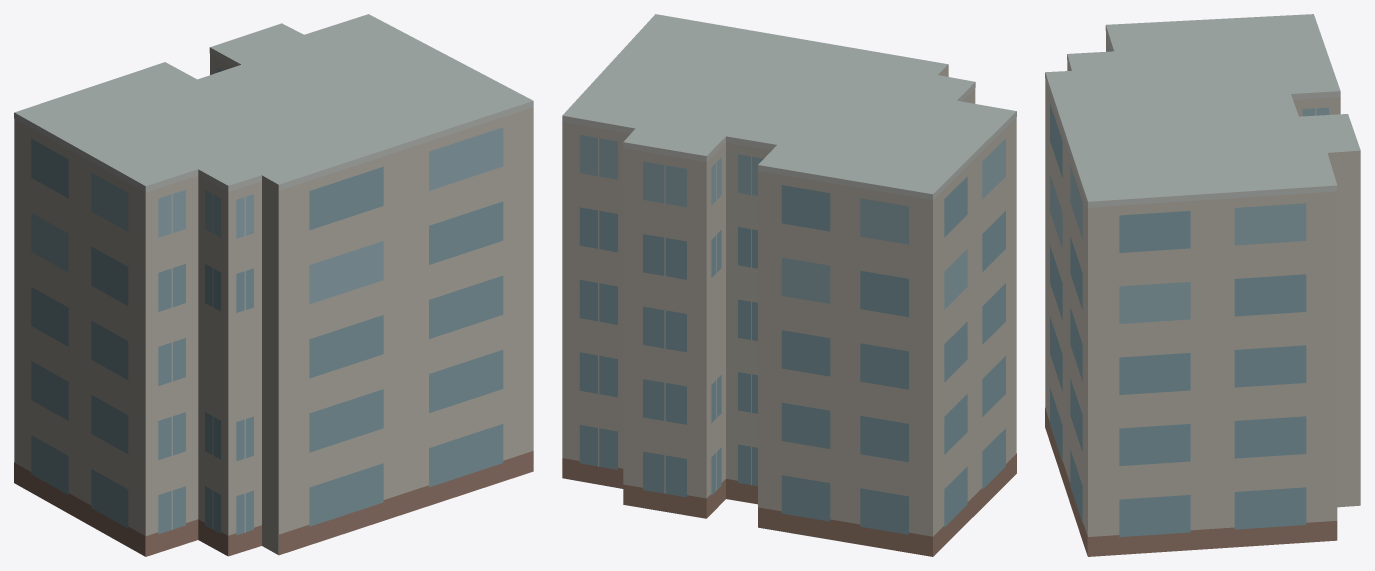
Rendered from survey-upis-32532819.glb.
The picture shows the model from 3 angles, left to right: view 1: azimuth 30°, elevation 25°; view 2: azimuth 150°, elevation 25°; view 3: azimuth 270°, elevation 25°; orthographic projection. The views are drawn at different scales.
Parts seen in each view (by area): view 1: survey-upis-32532819.tmp; view 2: survey-upis-32532819.tmp; view 3: survey-upis-32532819.tmp.
Boxes of the visible parts, left/top/right/bottom form: survey-upis-32532819.tmp: left=14, top=14, right=533, bottom=556; survey-upis-32532819.tmp: left=562, top=14, right=1016, bottom=556; survey-upis-32532819.tmp: left=1045, top=14, right=1360, bottom=556.
Size of the model in its own units: 16.56 by 14.6 by 11.77.
